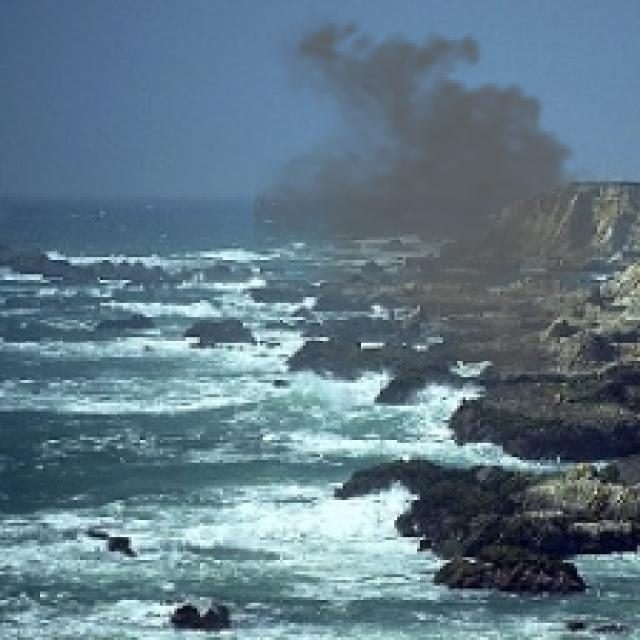smoke: (254, 8, 629, 383)
